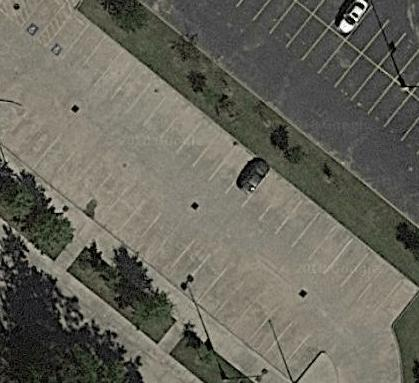parkingspot: (41, 8, 419, 331), (0, 81, 330, 383), (223, 0, 419, 159), (292, 0, 419, 103), (17, 0, 63, 44)
